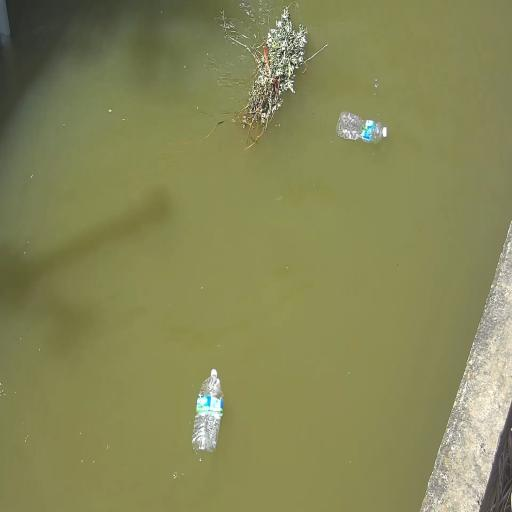plastic: (192, 369, 223, 452), (337, 112, 386, 143)
twig: (206, 5, 328, 149)
